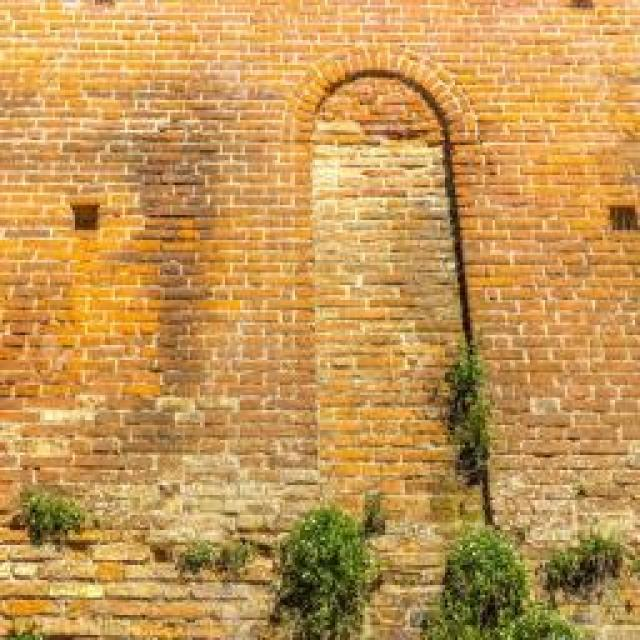Crack: (291, 45, 495, 532)
